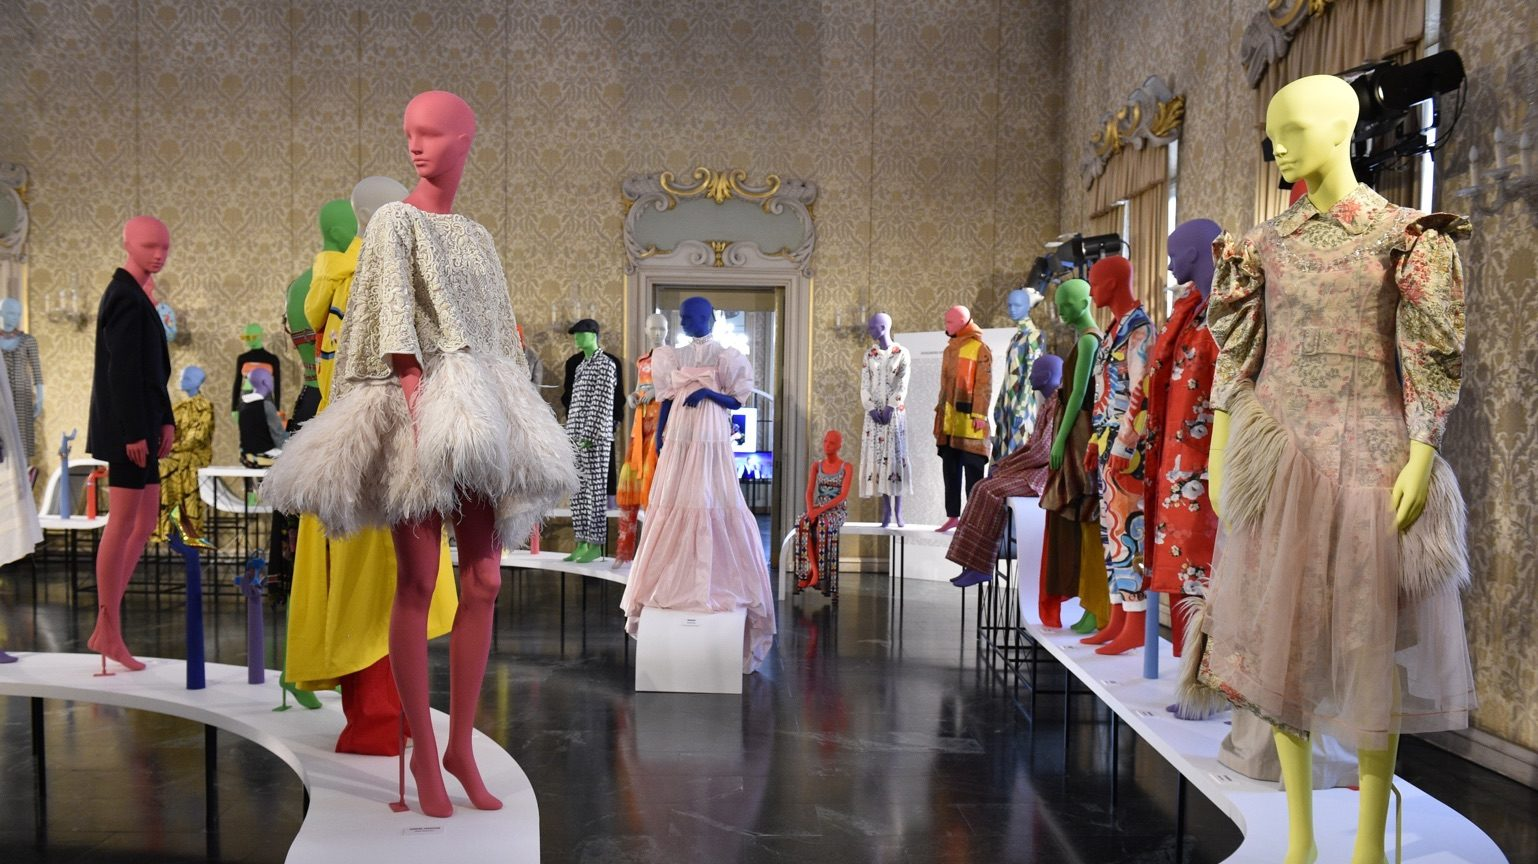person-like: (1185, 63, 1487, 864), (336, 75, 585, 826), (285, 163, 472, 689), (621, 290, 779, 670), (72, 203, 190, 676), (1138, 216, 1232, 613), (1078, 251, 1158, 666), (940, 346, 1071, 597), (1032, 277, 1115, 632), (280, 186, 360, 423), (931, 300, 996, 538), (612, 308, 673, 562), (850, 301, 916, 529), (564, 317, 621, 566), (793, 422, 854, 607), (169, 366, 225, 551), (225, 312, 286, 468), (995, 283, 1045, 457), (1, 293, 46, 472)
